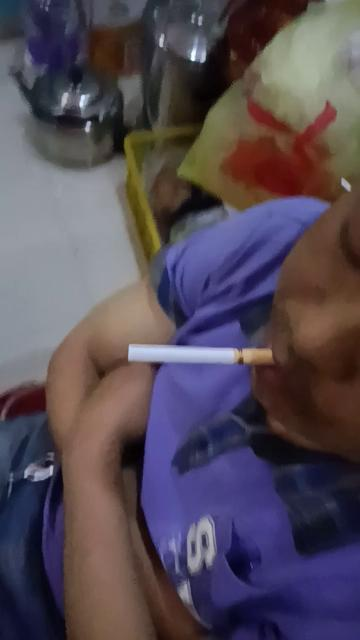Smoking: (129, 344, 275, 368)
